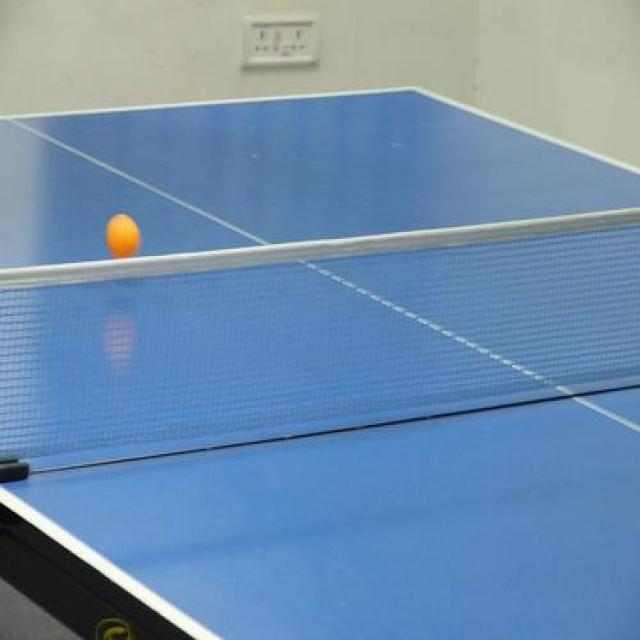ping-pong-ball: (106, 212, 140, 258)
